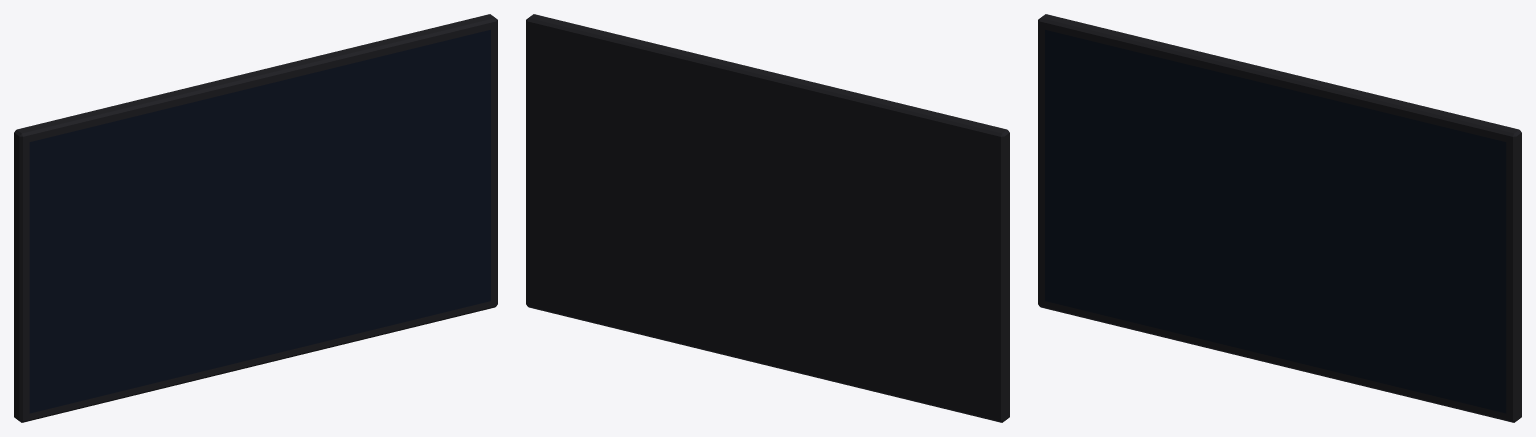
File: wall_screen_large.fbx
The picture shows the model from 3 angles, left to right: view 1: azimuth 30°, elevation 25°; view 2: azimuth 150°, elevation 25°; view 3: azimuth 330°, elevation 25°; orthographic projection.
Parts seen in each view (by area): view 1: wall_screen_large; view 2: wall_screen_large; view 3: wall_screen_large.
Boxes of the visible parts, bbox=[...] form: wall_screen_large: bbox=[14, 14, 497, 422]; wall_screen_large: bbox=[526, 14, 1009, 422]; wall_screen_large: bbox=[1038, 14, 1521, 422].
Bounding box in the file's own units: 4.15 × 2.4 × 0.125.
